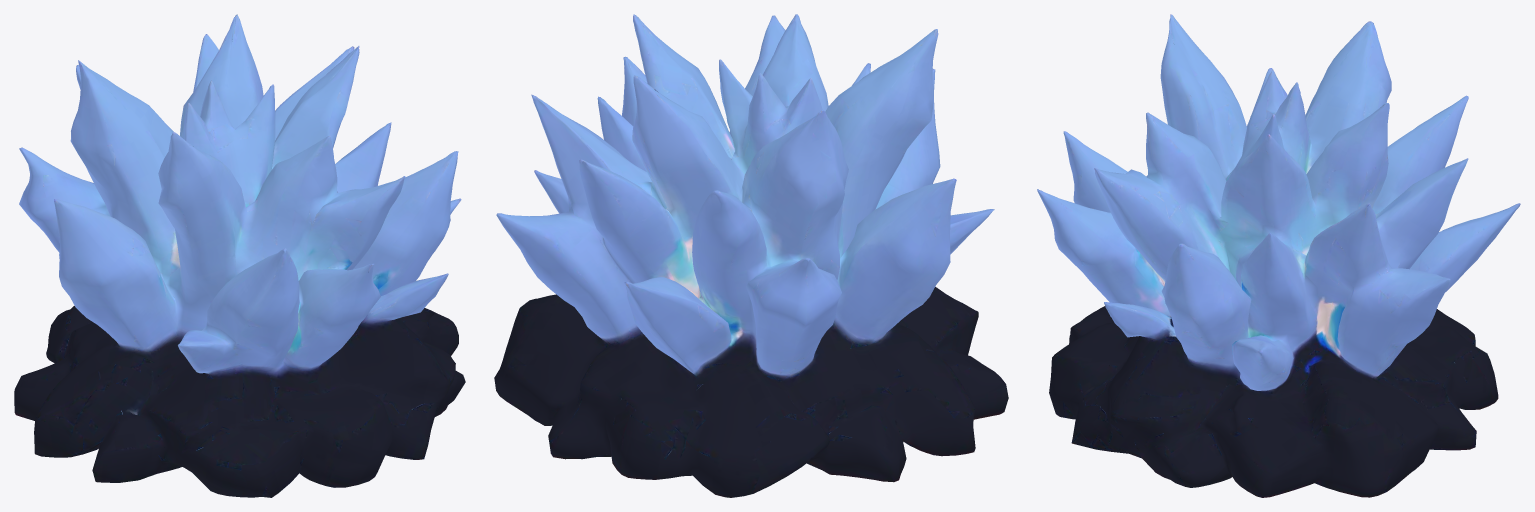
File: ice-crystal.opt.glb
The picture shows the model from 3 angles, left to right: view 1: azimuth 30°, elevation 25°; view 2: azimuth 150°, elevation 25°; view 3: azimuth 270°, elevation 25°; orthographic projection. The views are drawn at different scales.
Bounding box in the file's own units: 1.91 × 1.51 × 1.93.
Materials: 1 (1 with a texture image).
